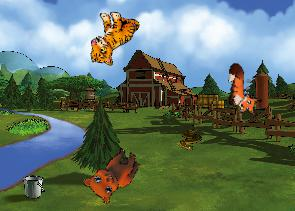bear: (79, 138, 144, 208)
fox: (226, 63, 262, 116)
tiger: (87, 8, 140, 68)
